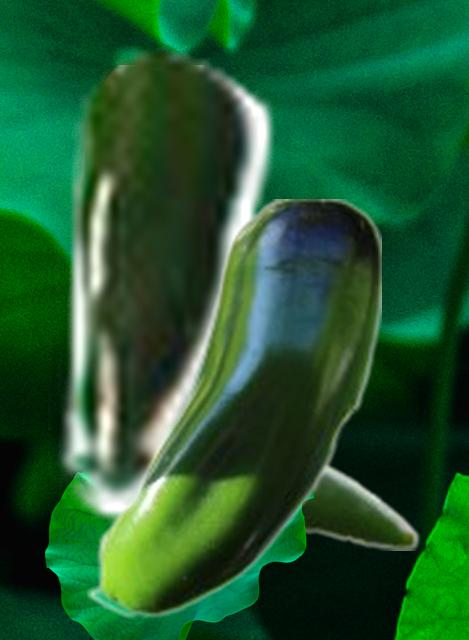green_chili: (84, 199, 380, 619), (48, 44, 277, 522), (303, 461, 420, 549)
